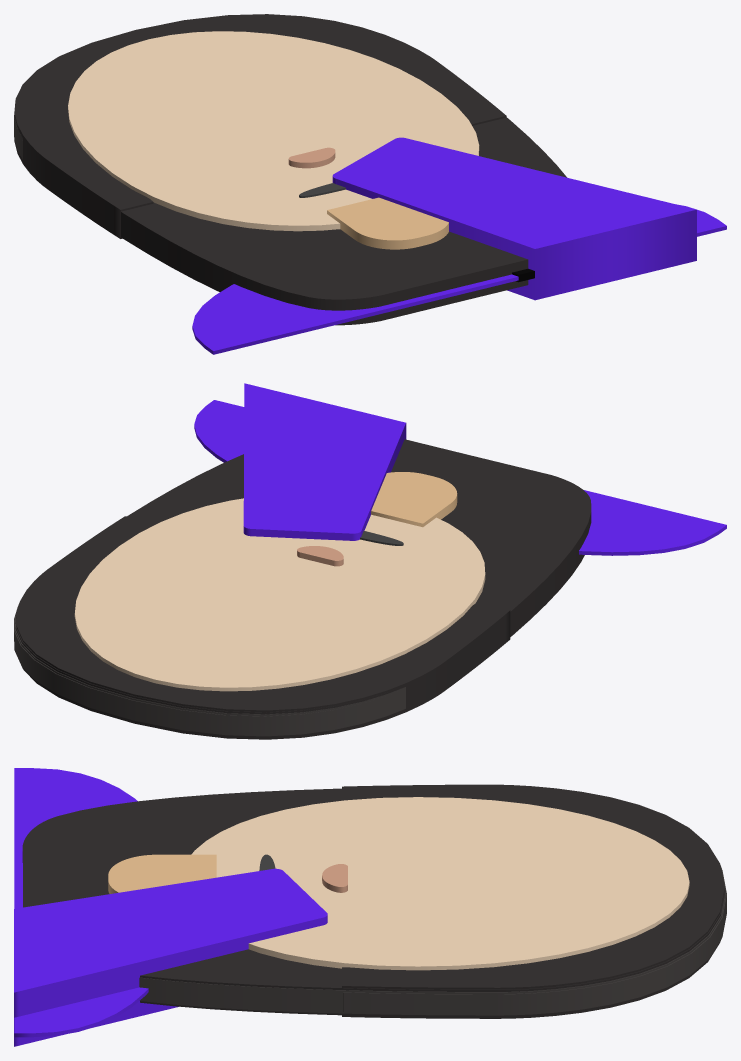
File: emoji_u1f926_1f3fb_200d_2640.glb
3 renders of one model, top to bottom at view 1: azimuth 30°, elevation 25°; view 2: azimuth 150°, elevation 25°; view 3: azimuth 270°, elevation 25°, orthographic. The views are drawn at different scales.
Visible parts, largest first — view 1: emoji_u1f926_1f3fb_200d_2640; view 2: emoji_u1f926_1f3fb_200d_2640; view 3: emoji_u1f926_1f3fb_200d_2640.
Boxes of the visible parts, x1,y1,x2,y2 form: emoji_u1f926_1f3fb_200d_2640: [14, 14, 726, 354]; emoji_u1f926_1f3fb_200d_2640: [14, 383, 726, 739]; emoji_u1f926_1f3fb_200d_2640: [14, 768, 726, 1046].
Size of the model in its own units: 0.0294 by 0.0028 by 0.0333.
